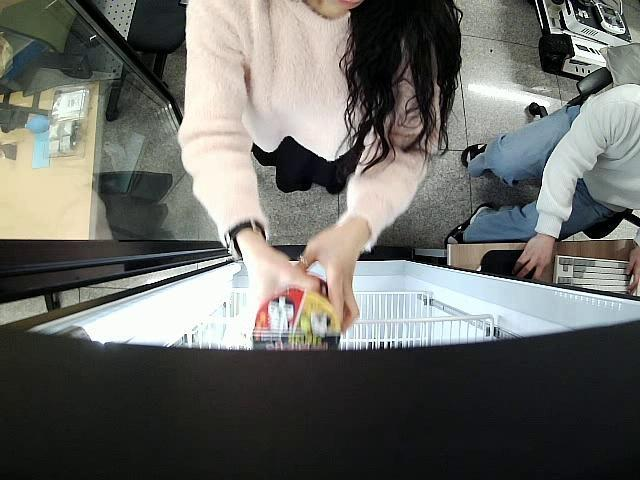08_buldak_S: (251, 291, 342, 354)
